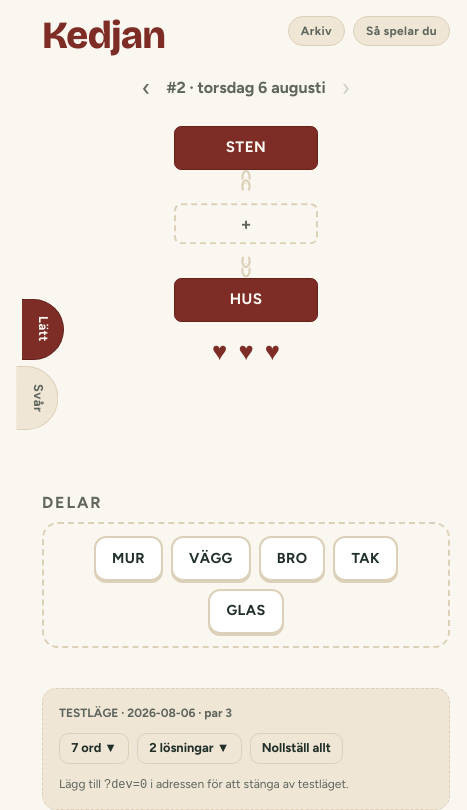
it: lives › three loose placements end the day
The image size is (467, 810).
Click the button with aria-label "glas.": click(246, 611) [208,589,284,634]
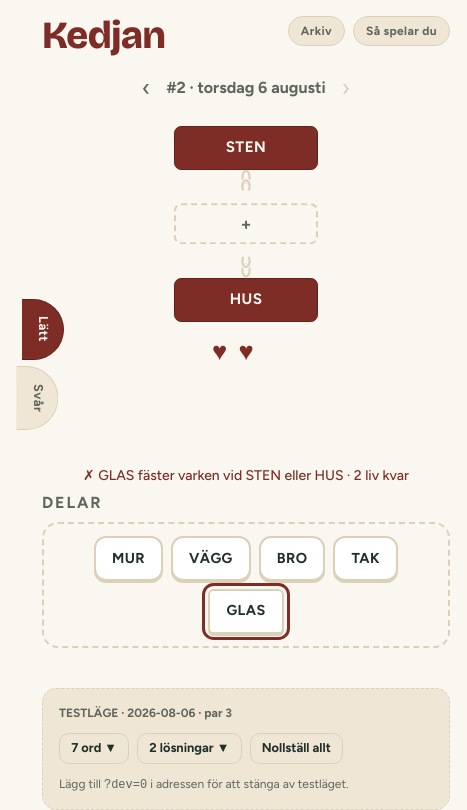
Click the button with aria-label "glas.": click(246, 611) [208,589,284,634]
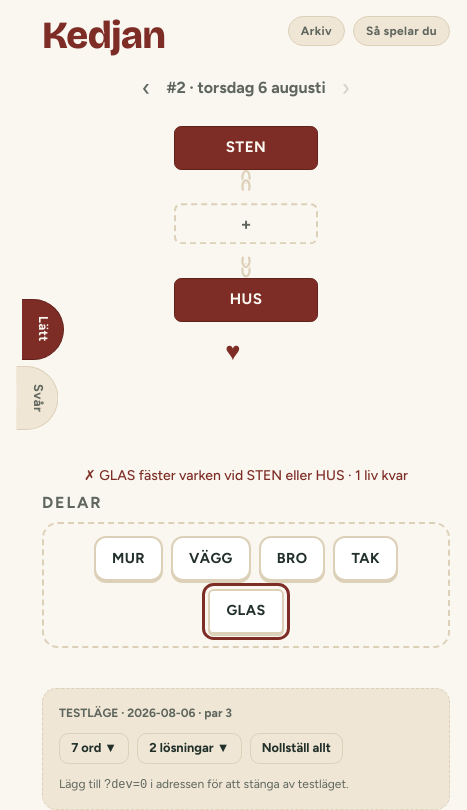
Click the button with aria-label "glas.": click(246, 611) [208,589,284,634]
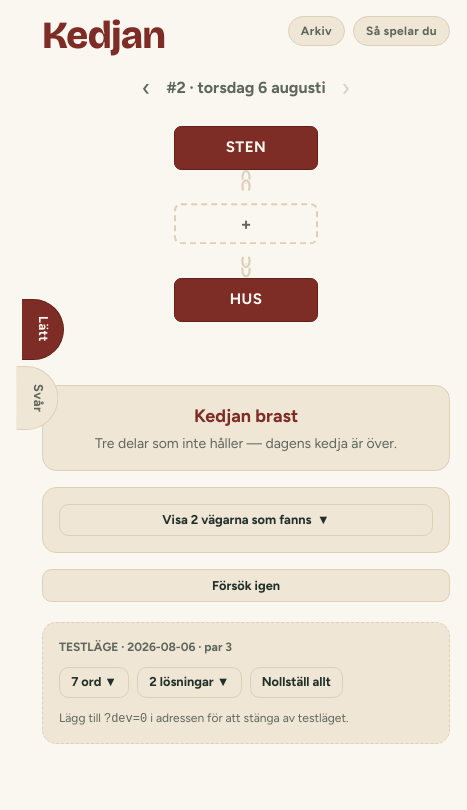
Result: the text "Kedjan brast" is shown at [194,405,298,427]
Result: the button "Visa 2 vägarna som fanns ▼" is shown at [59,504,433,536]
Result: the button "Försök igen" is shown at [42,569,450,602]
